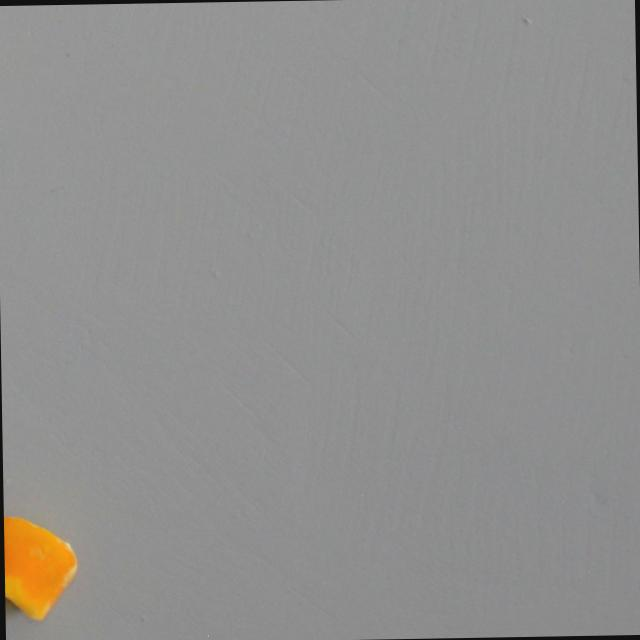pelicula: (3, 512, 79, 621)
